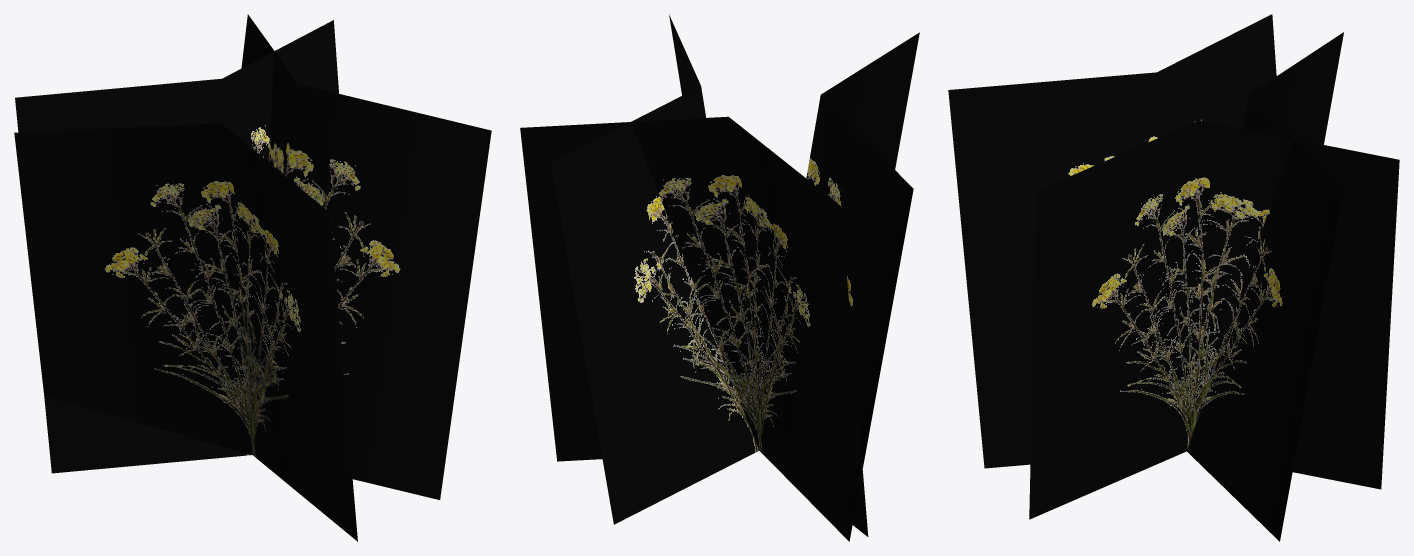
Rendered from YelloPrarieFlow_GC.DAE.
3 renders of one model, left to right at view 1: azimuth 30°, elevation 25°; view 2: azimuth 150°, elevation 25°; view 3: azimuth 270°, elevation 25°, orthographic.
Parts seen in each view (by area): view 1: YelloPrarie_GC128; view 2: YelloPrarie_GC128; view 3: YelloPrarie_GC128.
Boxes of the visible parts, x1,y1,x2,y2 form: YelloPrarie_GC128: [14, 14, 491, 541]; YelloPrarie_GC128: [520, 14, 919, 541]; YelloPrarie_GC128: [948, 14, 1399, 541].
Bounding box in the file's own units: 5.69 × 6.13 × 5.56.
